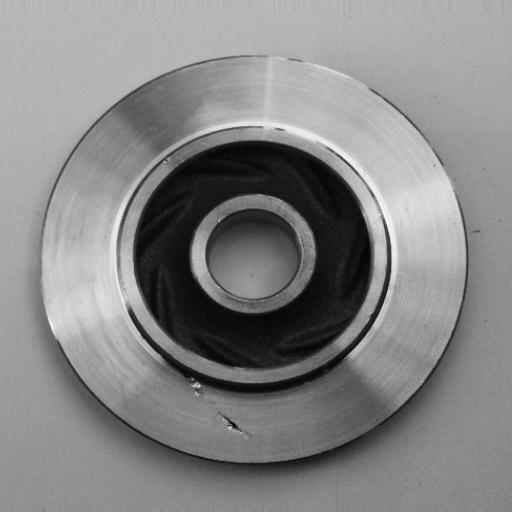crack: (178, 371, 263, 442)
scratch: (240, 113, 345, 153)
unpolished_casting: (40, 51, 469, 470)
